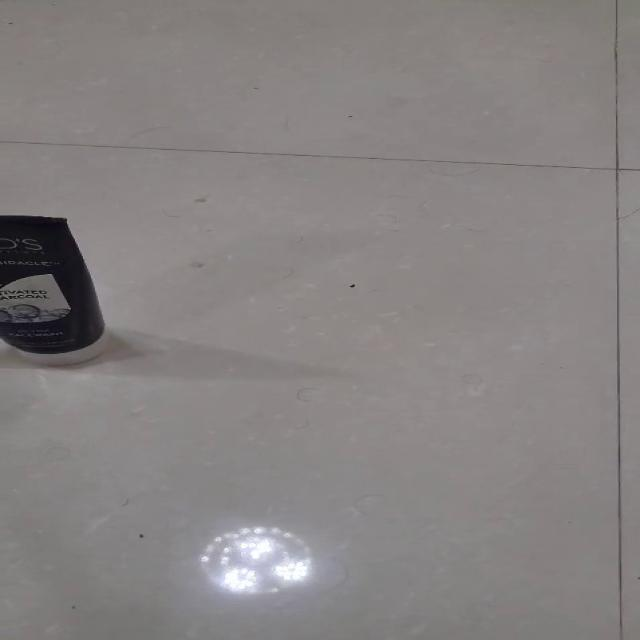plastic: (0, 214, 107, 366)
